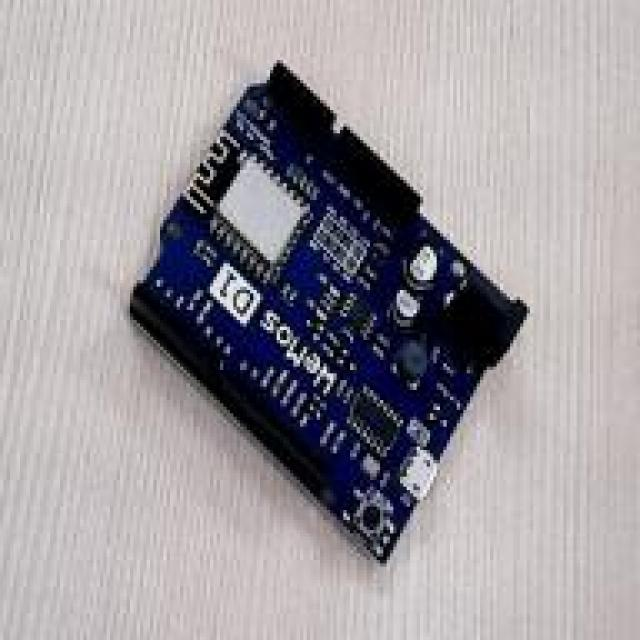Wemos: (131, 64, 524, 561)
